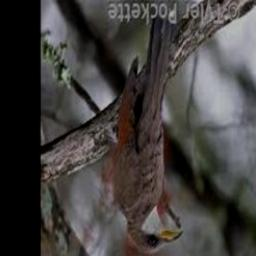Cuckoo: (114, 11, 183, 255)
